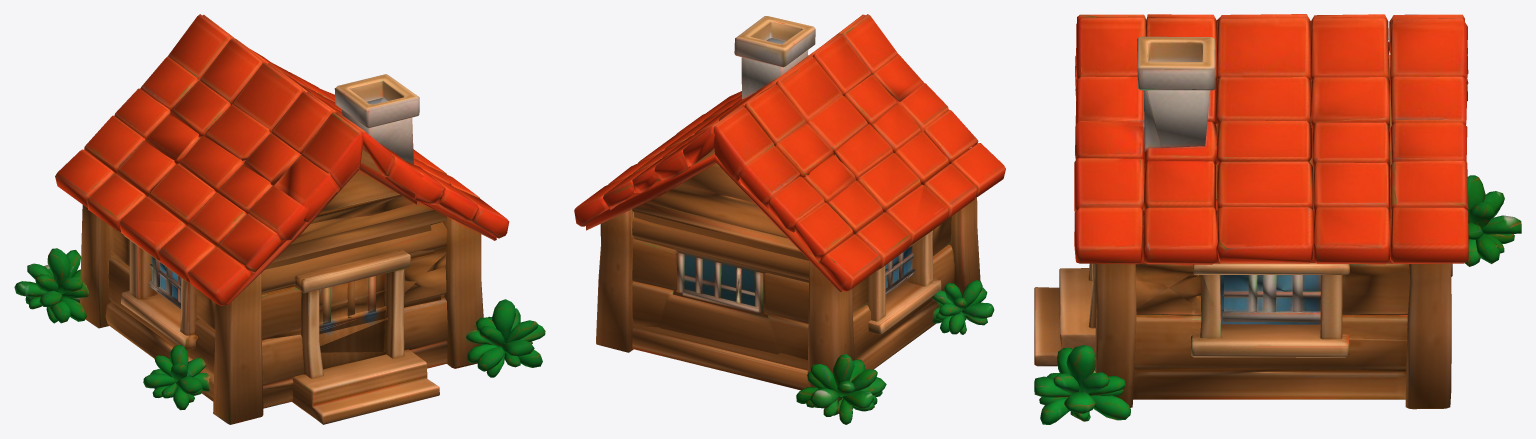
The model's file is s2_r4c3_wooden_roof_cabin.glb.
The picture shows the model from 3 angles, left to right: view 1: azimuth 30°, elevation 25°; view 2: azimuth 150°, elevation 25°; view 3: azimuth 270°, elevation 25°; orthographic projection. The views are drawn at different scales.
Bounding box in the file's own units: 1 × 0.7245 × 1.
1 material, 1 textured.
